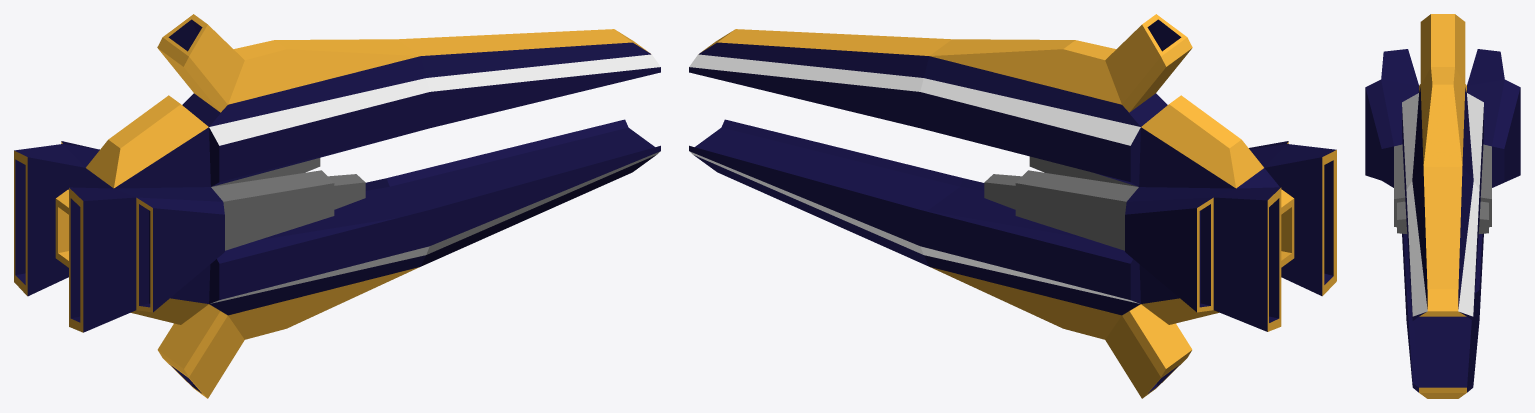
Rendered from ビット (2).fbx.
The picture shows the model from 3 angles, left to right: view 1: azimuth 30°, elevation 25°; view 2: azimuth 150°, elevation 25°; view 3: azimuth 270°, elevation 25°; orthographic projection. The views are drawn at different scales.
Parts seen in each view (by area): view 1: Cube; view 2: Cube; view 3: Cube.
Part boxes in pixels (x1,y1,x2,y2): Cube: [14, 14, 660, 398]; Cube: [689, 14, 1336, 398]; Cube: [1365, 14, 1520, 398].
Size of the model in its own units: 465 by 1046 by 1739.
